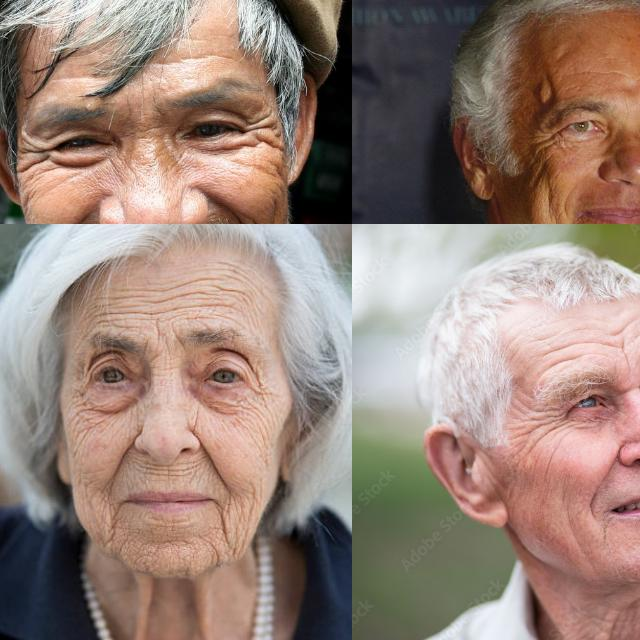bunny_line: (186, 408, 202, 434)
chin: (194, 538, 222, 566), (135, 540, 155, 570), (164, 534, 190, 554)
crows_feet: (245, 110, 277, 150), (19, 136, 47, 178), (532, 405, 566, 435), (534, 125, 556, 156), (71, 378, 87, 419), (248, 378, 268, 410)
forehead: (196, 276, 244, 320), (160, 43, 228, 67), (536, 334, 574, 368), (147, 289, 185, 319), (52, 68, 98, 92), (92, 294, 128, 324), (574, 322, 600, 358), (582, 62, 622, 80), (604, 330, 632, 352), (634, 70, 640, 90)
frown_line: (149, 326, 185, 352)
gummy_smile: (593, 451, 619, 503), (110, 436, 138, 474), (198, 442, 225, 478), (559, 188, 575, 218), (59, 212, 93, 224), (235, 209, 261, 224)
masseter: (543, 185, 563, 224), (243, 482, 259, 526), (541, 450, 561, 480), (78, 476, 92, 502)
sad_smile: (105, 498, 123, 532), (213, 499, 233, 529)
smoker_lines: (147, 464, 190, 486)
